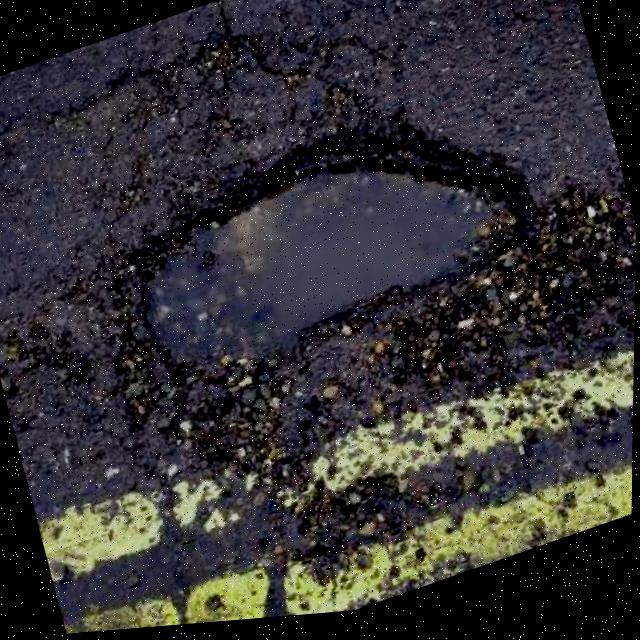Pothole: (77, 69, 563, 439)
